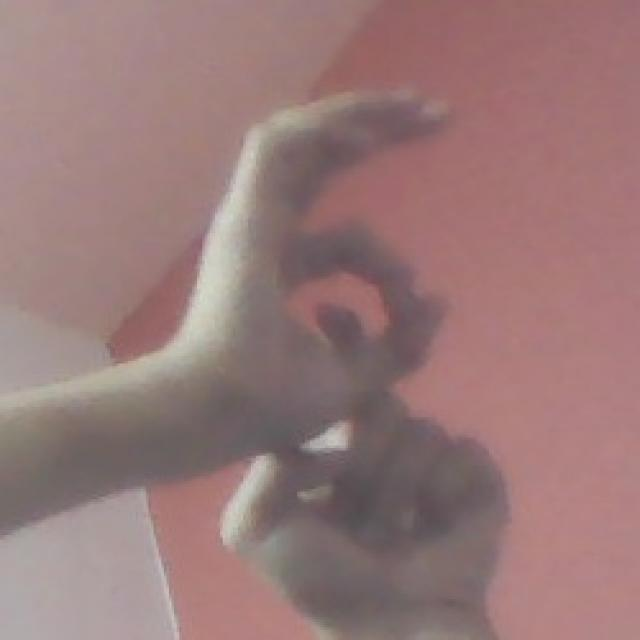Alphabet-Q: (192, 66, 553, 640)
